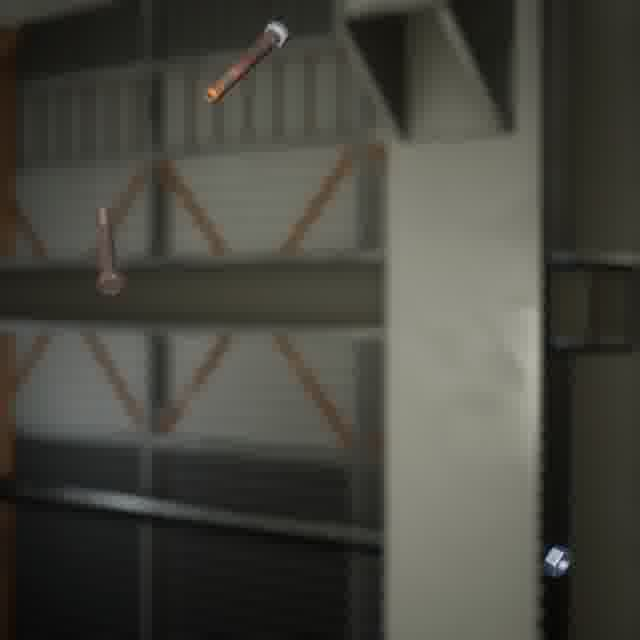bolt: (198, 17, 293, 107), (92, 201, 129, 300)
nut: (539, 540, 576, 581)
